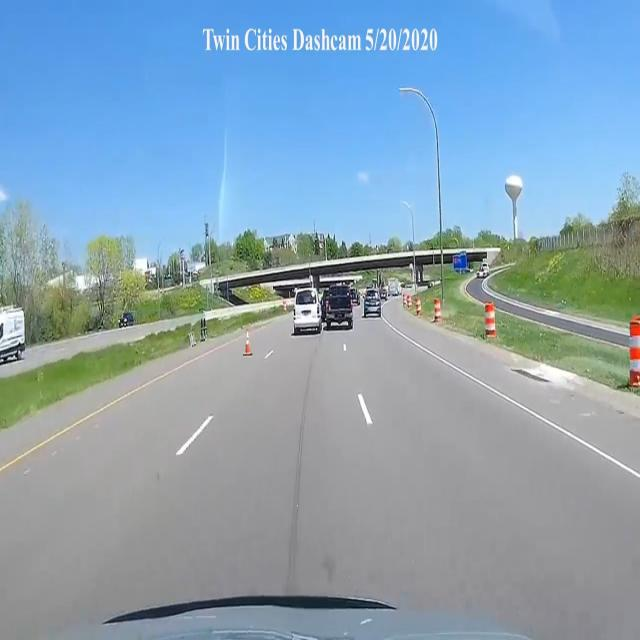Traffic Cone: (242, 330, 258, 357)
